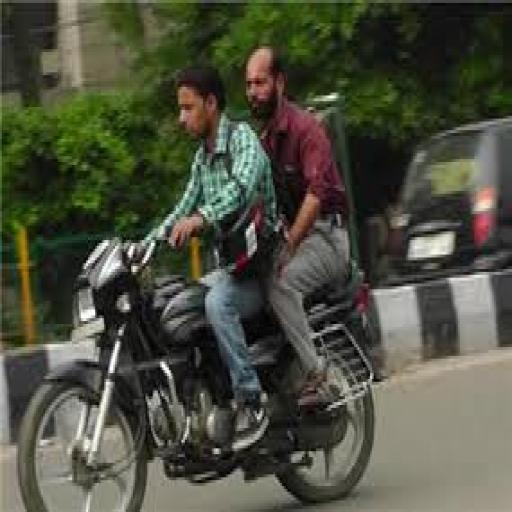helmet: (172, 61, 226, 107)
